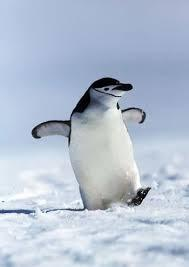chinstrap: (38, 70, 167, 220)
